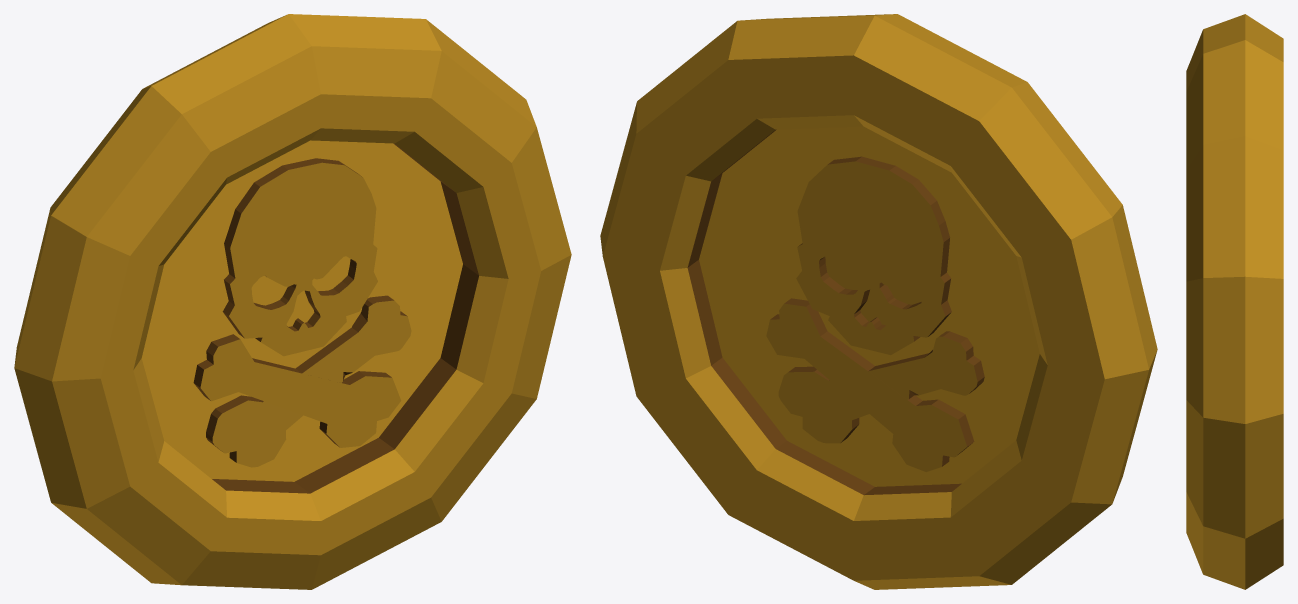
Rendered from PirateCoin.fbx.
The picture shows the model from 3 angles, left to right: view 1: azimuth 30°, elevation 25°; view 2: azimuth 150°, elevation 25°; view 3: azimuth 270°, elevation 25°; orthographic projection. The views are drawn at different scales.
Parts seen in each view (by area): view 1: SilverPirateCoint; view 2: SilverPirateCoint; view 3: SilverPirateCoint.
Part boxes in pixels (x1,y1,x2,y2): SilverPirateCoint: [14, 14, 571, 589]; SilverPirateCoint: [600, 14, 1157, 589]; SilverPirateCoint: [1186, 14, 1283, 589].
Bounding box in the file's own units: 179 × 179 × 30.
